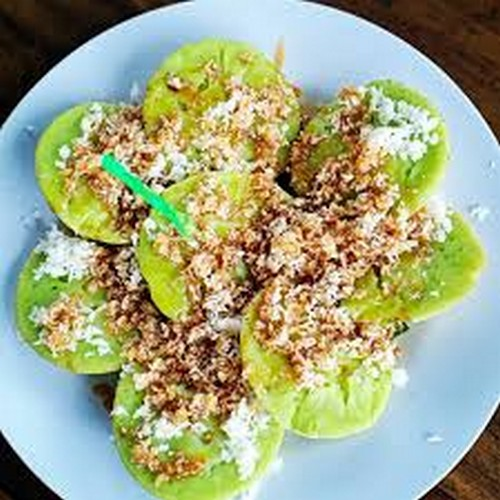laklak: (87, 257, 450, 492)
